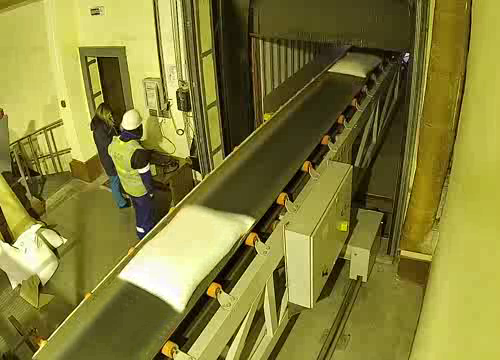bag: (112, 203, 263, 319), (324, 47, 388, 83)
